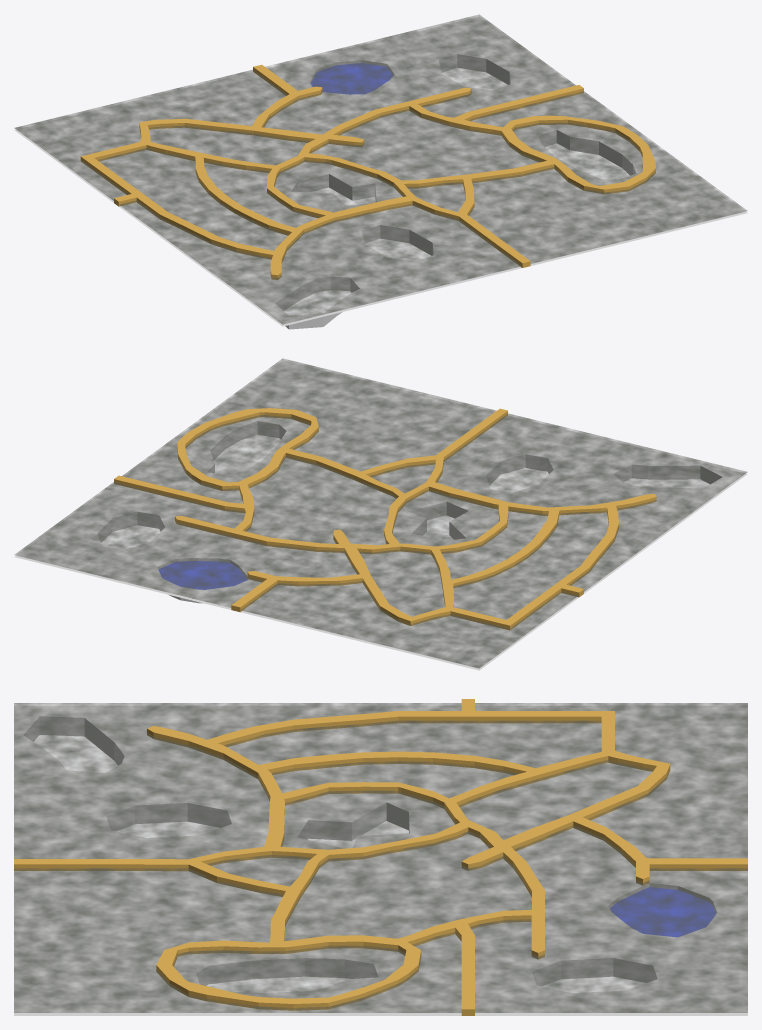
The model's file is rock_kicking_heaven_ground.glb.
3 renders of one model, top to bottom at view 1: azimuth 30°, elevation 25°; view 2: azimuth 150°, elevation 25°; view 3: azimuth 270°, elevation 25°, orthographic. The views are drawn at different scales.
Visible parts, largest first — view 1: CloudsHeaven, HeavenGround, HeavenPath, HeavenGroundHoleSides, HeavenGroundLake; view 2: CloudsHeaven, HeavenGround, HeavenPath, HeavenGroundHoleSides, HeavenGroundLake; view 3: CloudsHeaven, HeavenGround, HeavenPath, HeavenGroundHoleSides, HeavenGroundLake.
Boxes of the visible parts, box(x1,y1,x2,y2) form: CloudsHeaven: box(14, 14, 747, 324); HeavenGround: box(14, 16, 747, 326); HeavenPath: box(80, 64, 655, 279); HeavenGroundHoleSides: box(275, 54, 635, 329); HeavenGroundLake: box(311, 63, 392, 94); CloudsHeaven: box(14, 358, 747, 668); HeavenGround: box(14, 360, 747, 670); HeavenPath: box(114, 408, 656, 630); HeavenGroundHoleSides: box(97, 421, 721, 603); HeavenGroundLake: box(158, 561, 247, 589); CloudsHeaven: box(14, 703, 747, 1012); HeavenGround: box(14, 705, 747, 1015); HeavenPath: box(14, 699, 747, 1015); HeavenGroundHoleSides: box(23, 716, 716, 986); HeavenGroundLake: box(610, 887, 715, 937).
Bounding box in the file's own units: 500 × 19 × 500.
Materials: 4 (1 with a texture image).
